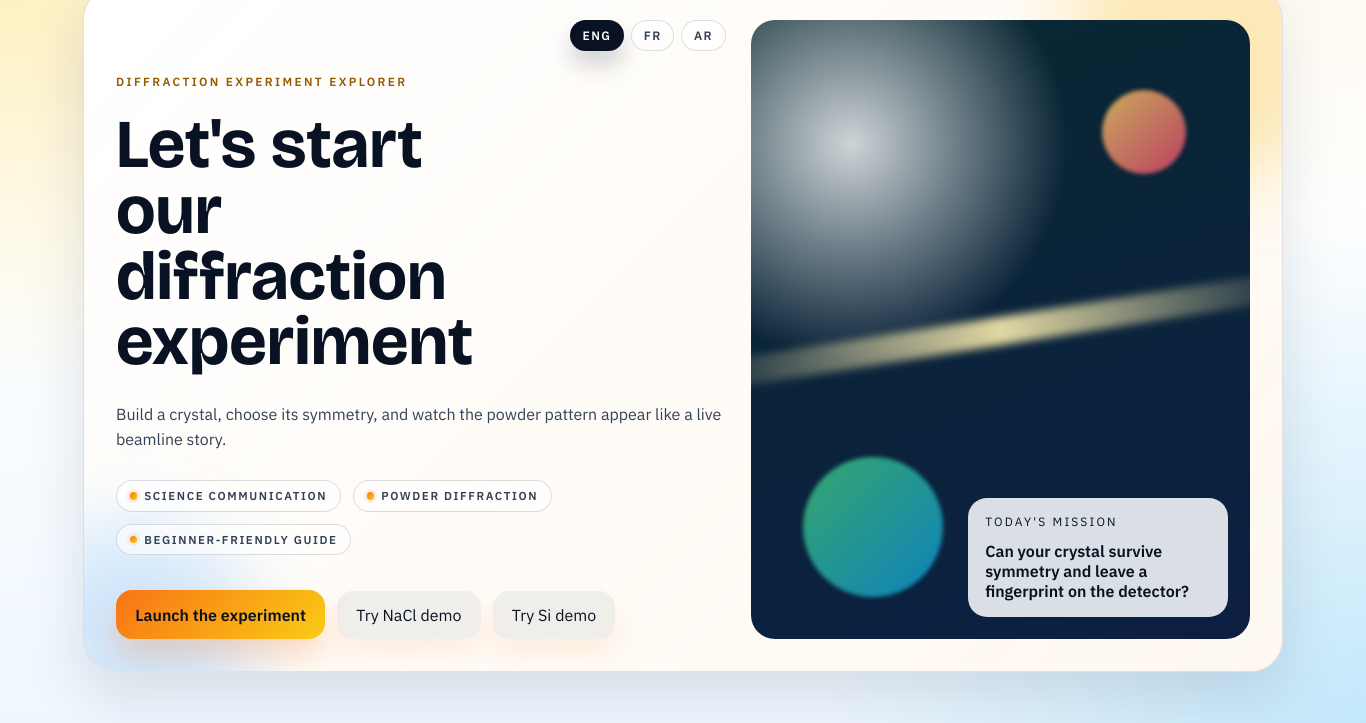
Test: ExperimentExplorer › keeps the experiment step locked until the structure is valid
The width and height of the screenshot is (1366, 723).
Click the button "Launch the experiment" at coordinates (221, 615), box x1=116 y1=590 x2=325 y2=639
(page scrolled)
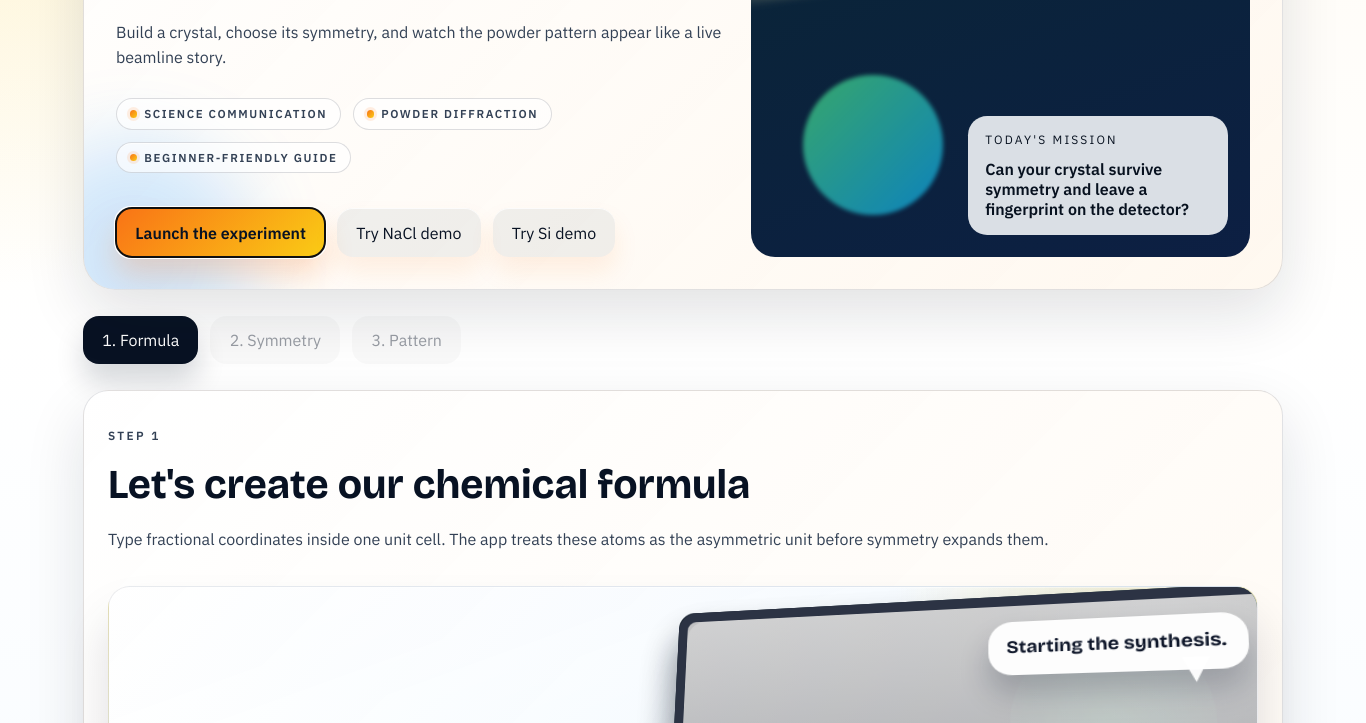
Check: the button "3. Pattern" is disabled, box x1=352 y1=316 x2=461 y2=364
